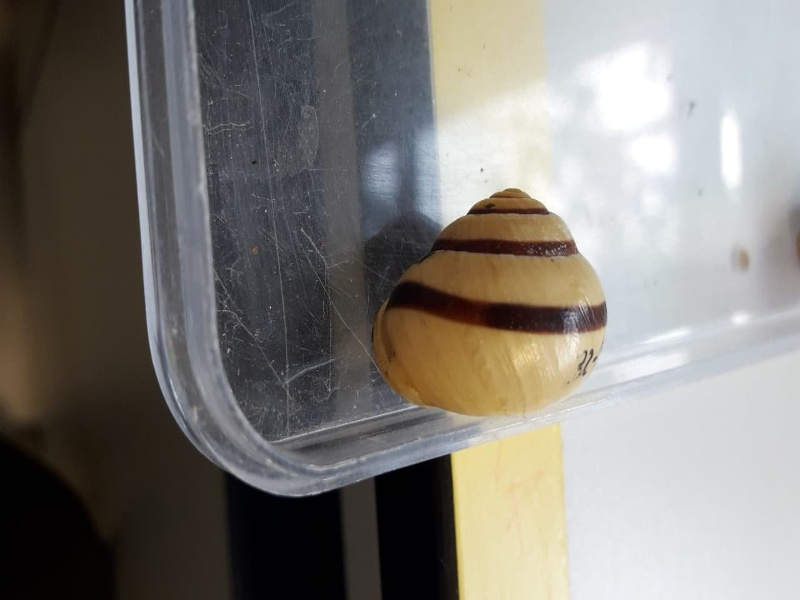snail_Y_M: (370, 175, 621, 430)
